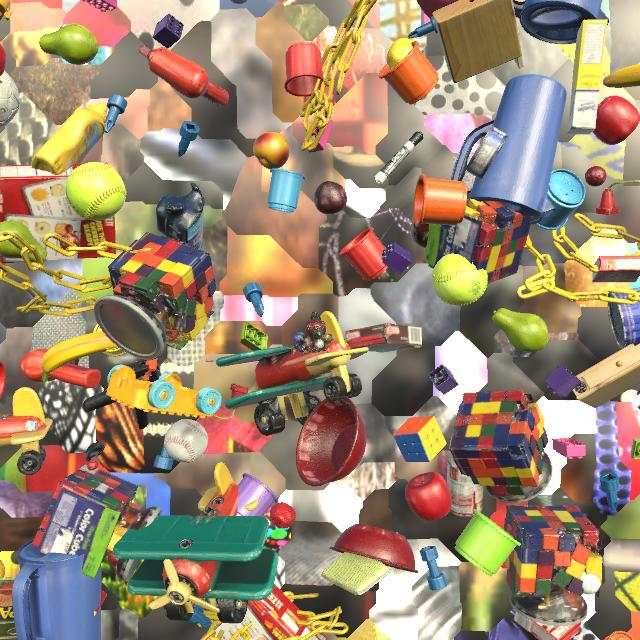ycb_002_master_chef_can: (607, 287, 640, 349)
ycb_003_cracker_box: (0, 163, 116, 263), (200, 584, 328, 640)
ycb_004_sugar_box: (567, 19, 608, 135)
ycb_005_tomato_soup_can: (447, 453, 484, 517)
ycb_006_mustard_bottle: (31, 103, 108, 175)
ycb_007_tuna_fish_can: (465, 126, 509, 179)
ycb_008_pudding_box: (345, 323, 422, 353)
ycb_009_gelatin_box: (513, 612, 581, 640), (592, 255, 640, 283)
ycb_010_potted_meat_can: (0, 577, 17, 640)
ycb_011_banana: (41, 331, 118, 382), (603, 64, 640, 88)
ycb_012_strawberry: (270, 502, 296, 529)
ycb_013_apple: (593, 95, 640, 145), (405, 472, 452, 521), (0, 44, 6, 76)
ycb_014_lemon: (387, 38, 413, 70)
ycb_015_peach: (253, 132, 289, 169), (0, 560, 5, 578)
ycb_016_pear: (492, 308, 549, 352), (39, 24, 99, 65), (0, 221, 48, 263)
ycb_018_plum: (314, 181, 347, 214)
